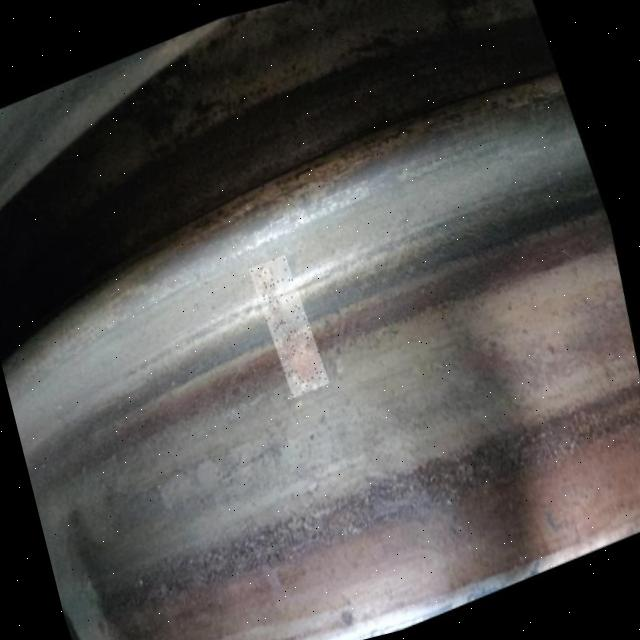Brake_Thermal_Cracks: (255, 255, 319, 399)
